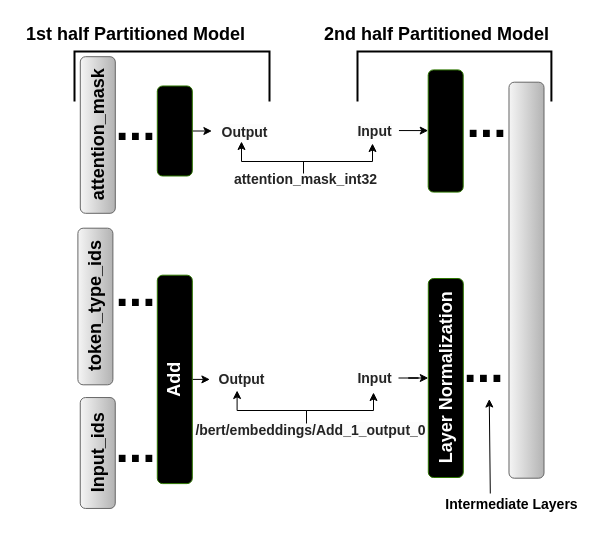
Some shapes in this 600 by 536 pixel diagram are drawn without their labels. The shapes that lost their labels are listed below. From the top down, each one's centre as x and y in pixels, then its label:
point 174,130: Cast
point 445,130: ReduceSum
point 526,279: Logits
